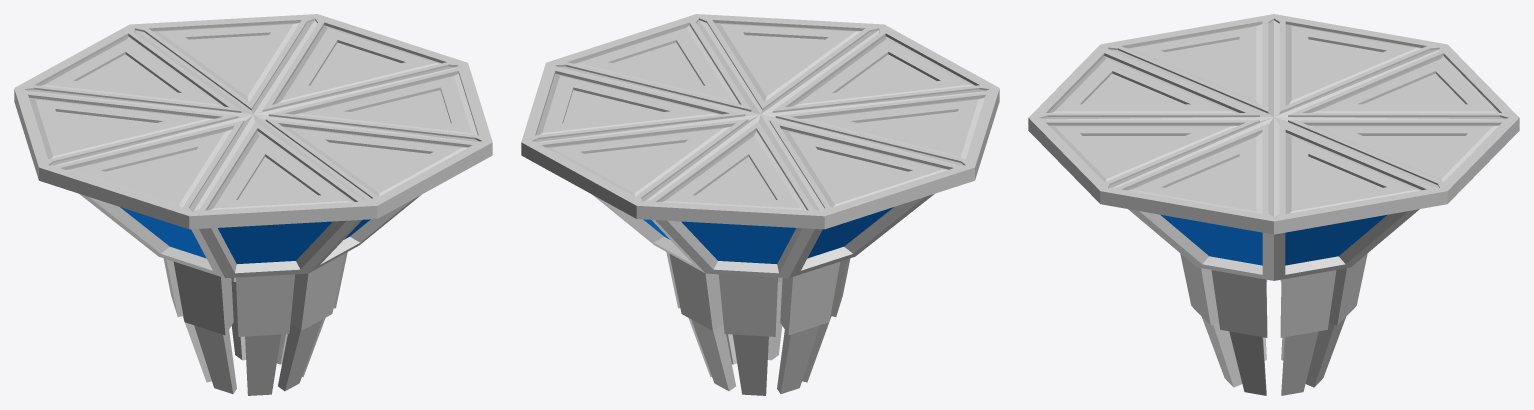
Rendered from TemplePlatform.fbx.
The picture shows the model from 3 angles, left to right: view 1: azimuth 30°, elevation 25°; view 2: azimuth 150°, elevation 25°; view 3: azimuth 270°, elevation 25°; orthographic projection.
Visible parts, largest first — view 1: Cylinder; view 2: Cylinder; view 3: Cylinder.
Boxes of the visible parts, left/top/right/bottom form: Cylinder: left=14, top=14, right=492, bottom=395; Cylinder: left=521, top=14, right=999, bottom=395; Cylinder: left=1028, top=14, right=1519, bottom=395.
Size of the model in its own units: 200 by 116 by 200.
